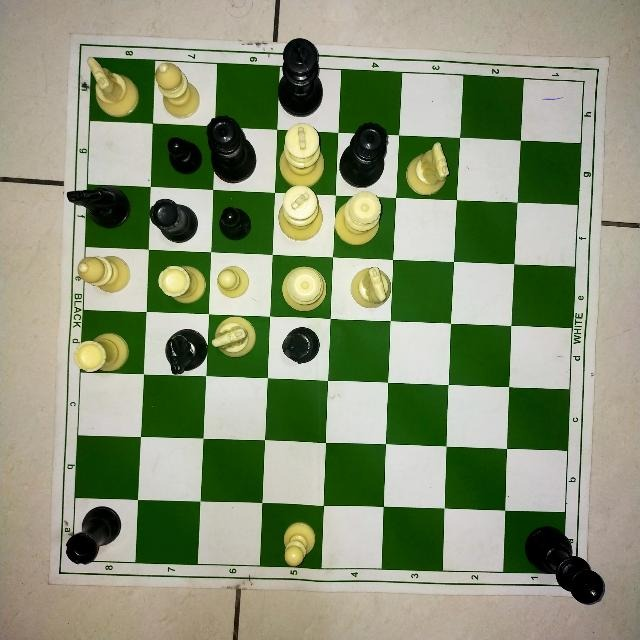black-bishop: (275, 325, 329, 367)
black-king: (517, 523, 610, 611), (268, 31, 327, 119)
black-knight: (61, 181, 139, 235), (161, 325, 209, 381)
black-pawn: (213, 200, 259, 246), (162, 132, 206, 178)
black-queen: (200, 111, 259, 187), (337, 109, 391, 192)
black-rook: (58, 500, 130, 574), (146, 192, 202, 247)
white-bishop: (148, 52, 202, 121), (75, 249, 135, 303)
white-king: (277, 121, 329, 191), (277, 182, 327, 244)
white-knight: (77, 47, 144, 128), (403, 132, 453, 200), (206, 314, 264, 372), (345, 264, 397, 316)
white-pawn: (276, 515, 326, 574), (209, 263, 250, 304)
white-queen: (334, 189, 394, 250), (277, 261, 329, 311)
white-rook: (68, 325, 137, 381), (151, 259, 210, 313)
